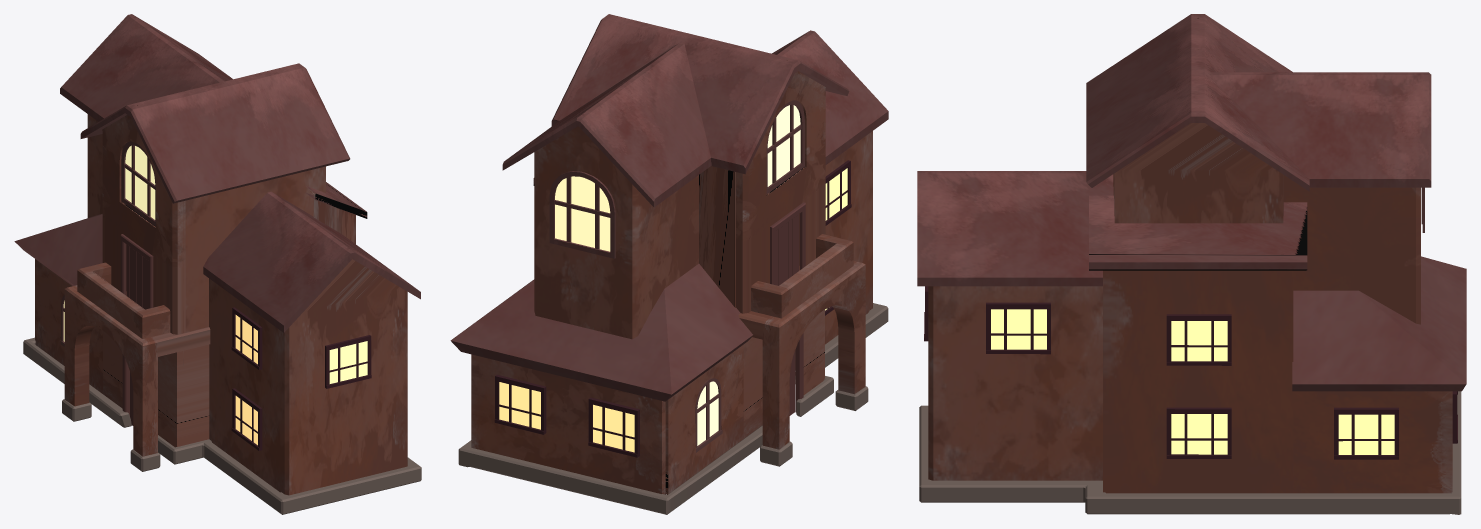
File: house_brick_3f_2x1.glb
3 renders of one model, left to right at view 1: azimuth 30°, elevation 25°; view 2: azimuth 150°, elevation 25°; view 3: azimuth 270°, elevation 25°, orthographic. The views are drawn at different scales.
Parts seen in each view (by area): view 1: 3F2to1; view 2: 3F2to1; view 3: 3F2to1.
Boxes of the visible parts, x1,y1,x2,y2 form: 3F2to1: (14, 14, 421, 514); 3F2to1: (450, 14, 888, 514); 3F2to1: (917, 14, 1466, 514).
Bounding box in the file's own units: 8.9 × 12.44 × 15.89.
Materials: 6 (2 with a texture image).
